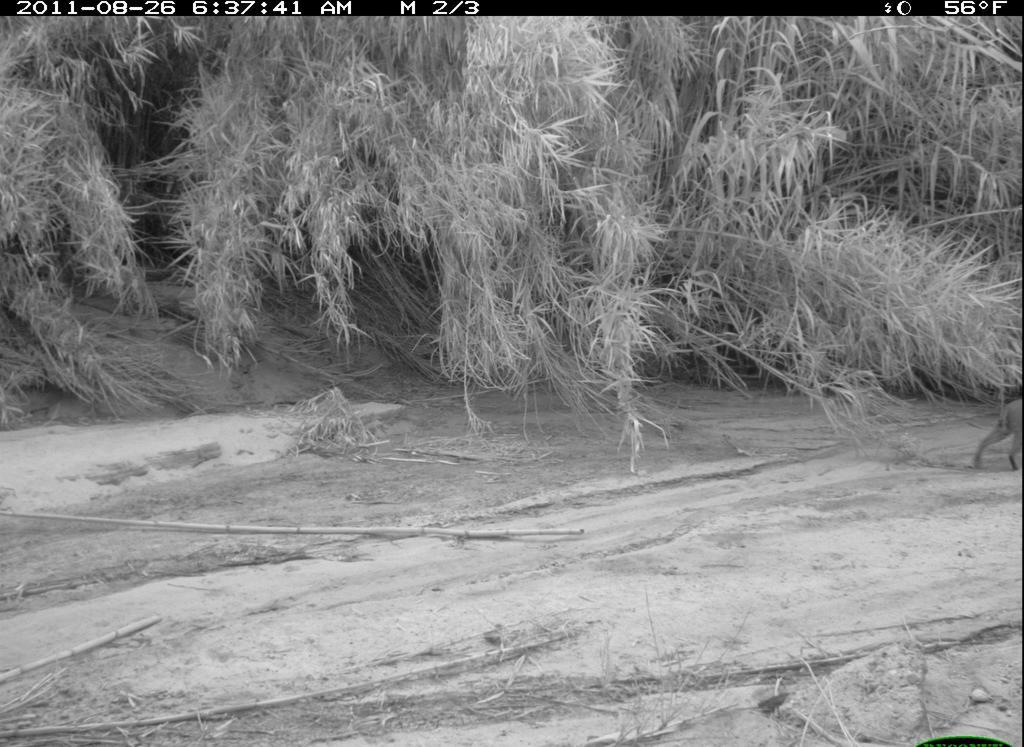bobcat: (971, 376, 1022, 488)
